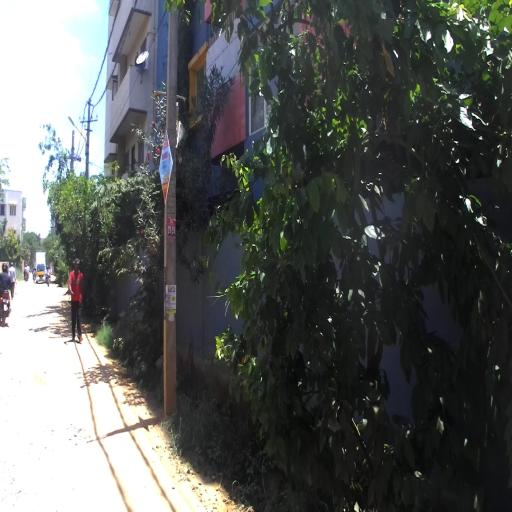street_light_0: (66, 116, 88, 157)
